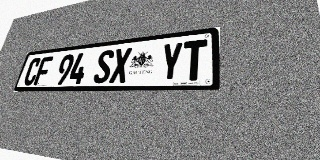4: (67, 52, 89, 84)
9: (54, 54, 75, 85)
C: (22, 57, 42, 86)
F: (33, 56, 53, 85)
S: (92, 49, 115, 84)
T: (181, 39, 207, 81)
X: (109, 47, 132, 83)
Y: (158, 42, 183, 82)
